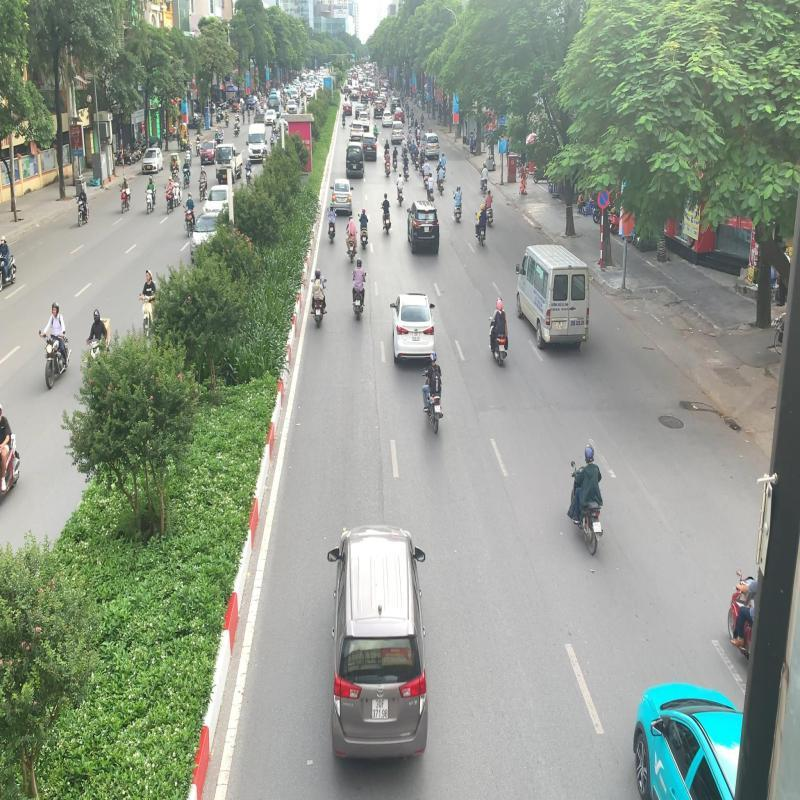helmet: (584, 444, 594, 462), (430, 351, 437, 362)
licenseplate: (593, 522, 602, 532), (434, 406, 440, 412)
motorcyclist: (566, 443, 604, 556), (422, 352, 444, 433)
